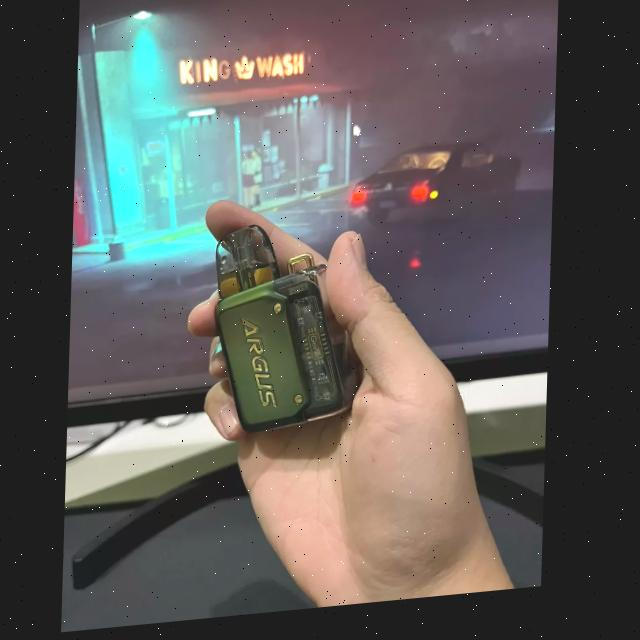vape: (213, 224, 370, 441)
